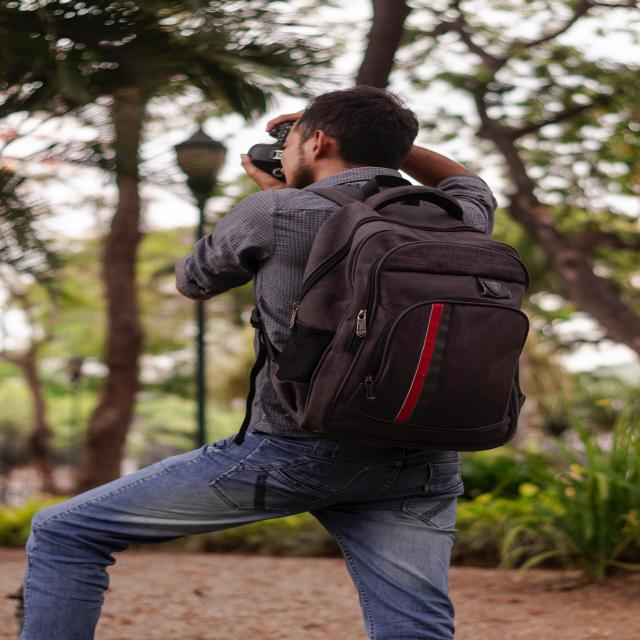backpack: (271, 183, 524, 458)
